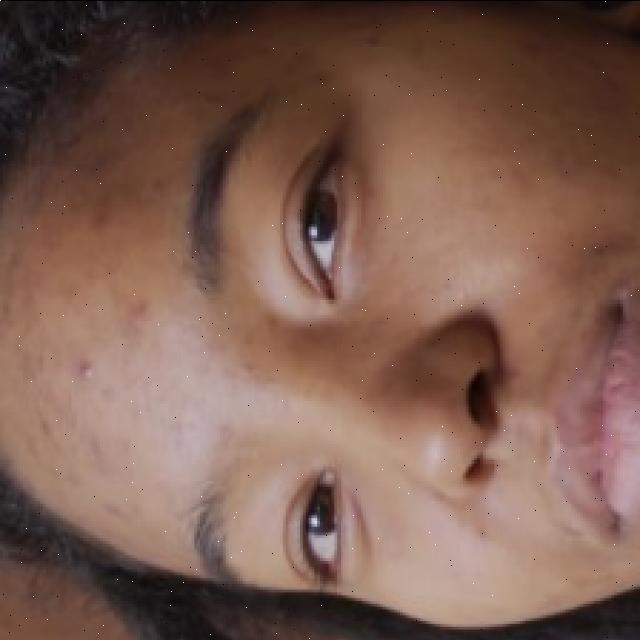Acne: (8, 86, 211, 506)
